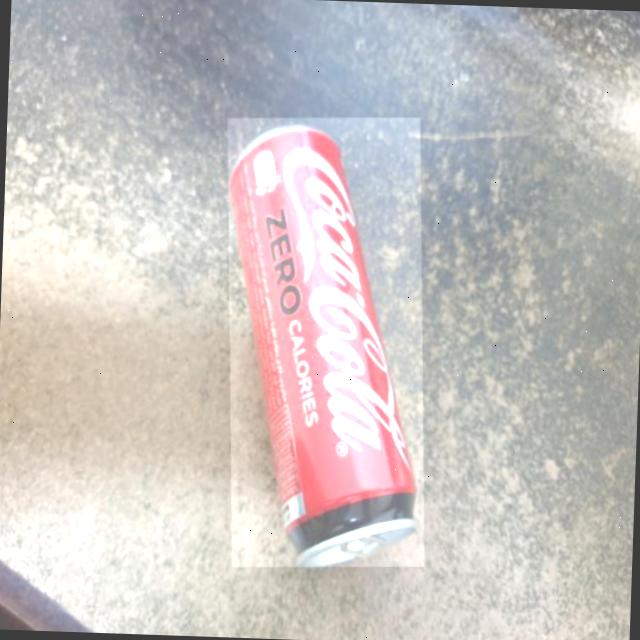trash: (210, 125, 428, 578)
